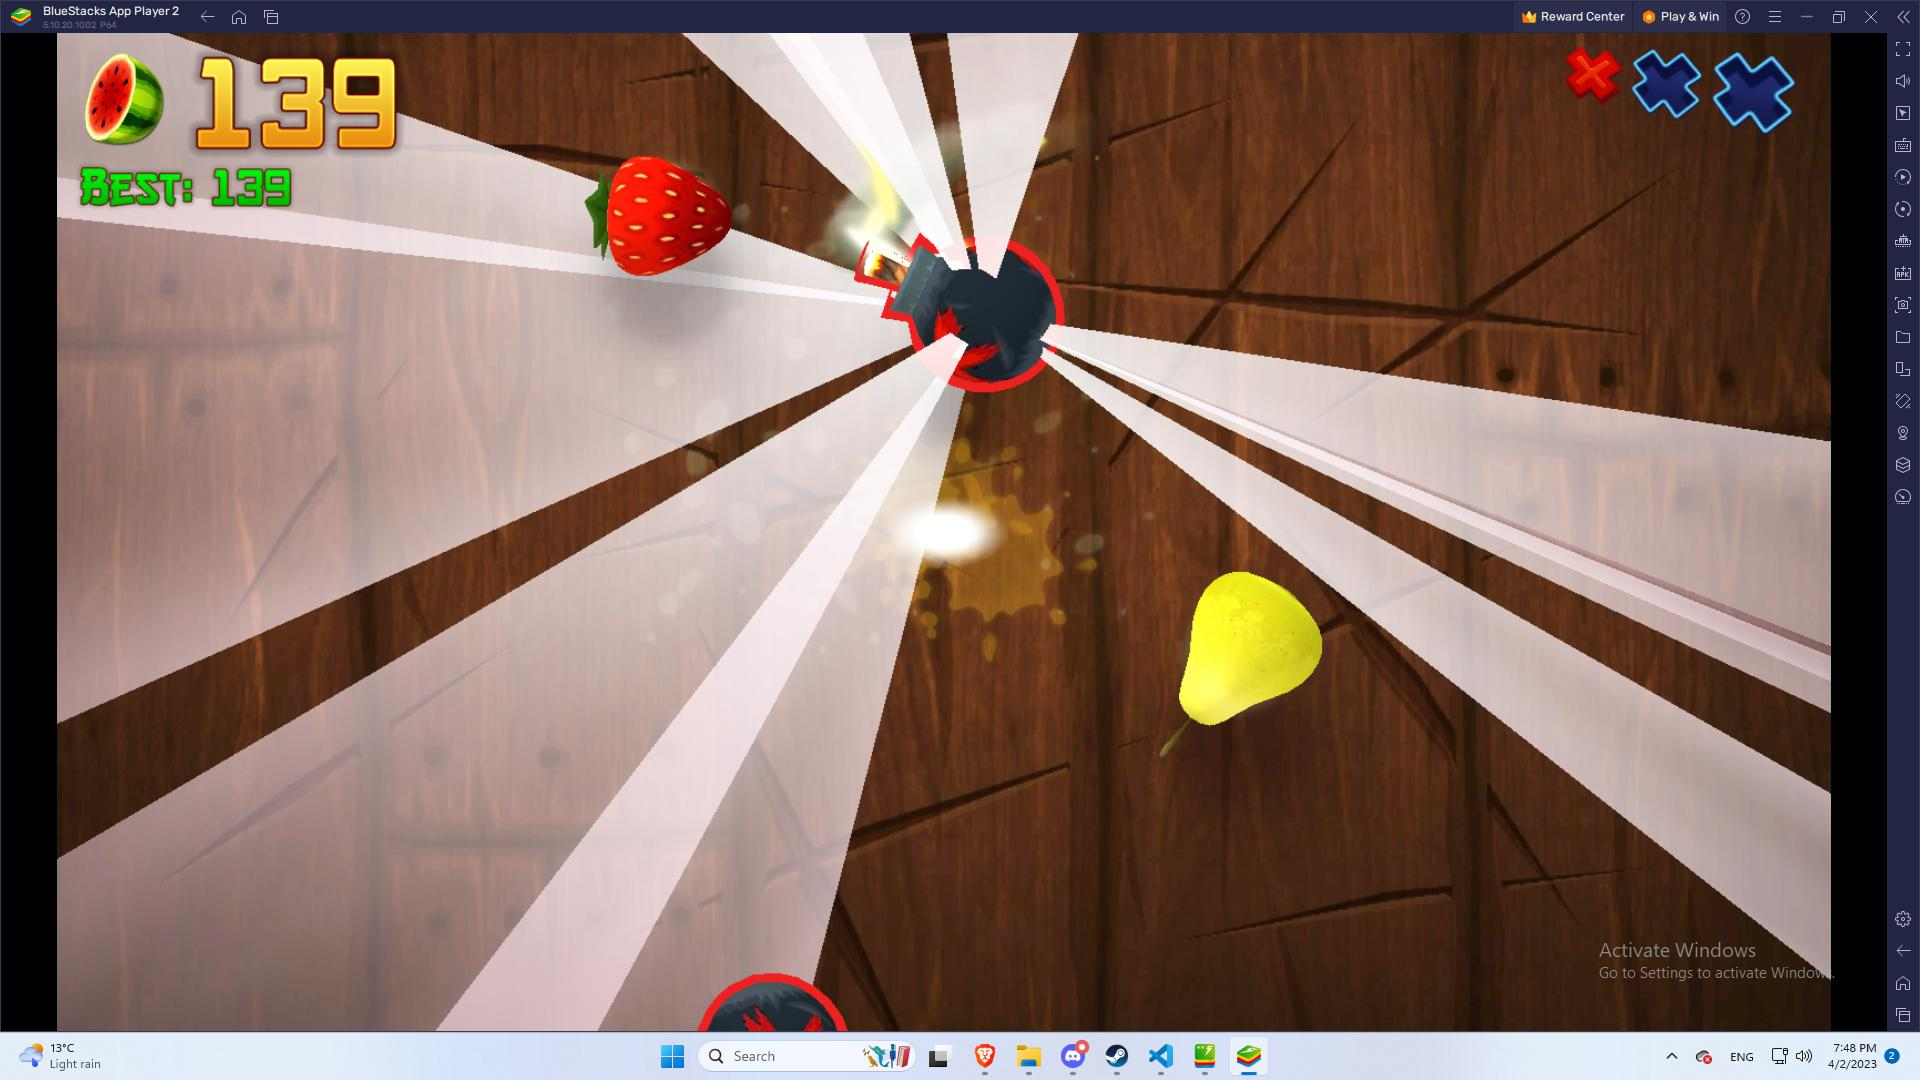fruit: (1142, 554, 1328, 771), (580, 144, 757, 285)
